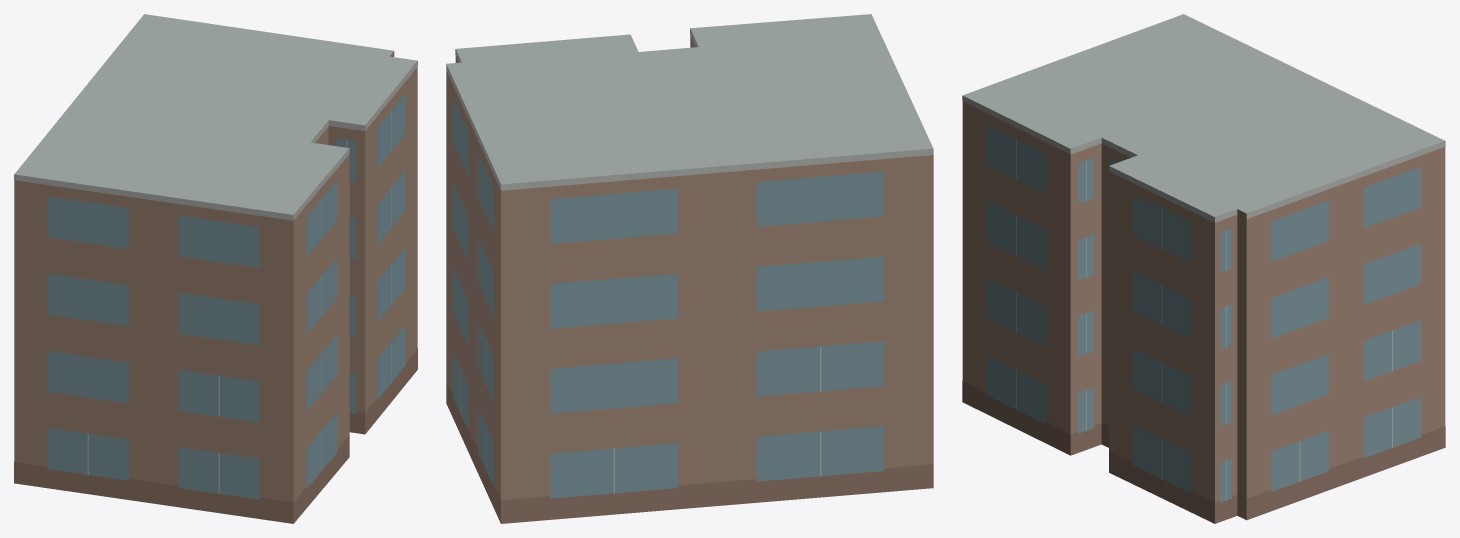
File: survey-upis-32745769.glb
3 renders of one model, left to right at view 1: azimuth 30°, elevation 25°; view 2: azimuth 150°, elevation 25°; view 3: azimuth 270°, elevation 25°, orthographic. The views are drawn at different scales.
Parts seen in each view (by area): view 1: survey-upis-32745769.tmp; view 2: survey-upis-32745769.tmp; view 3: survey-upis-32745769.tmp.
Part boxes in pixels (x1=…): survey-upis-32745769.tmp: x1=14, y1=14, x2=417, y2=523; survey-upis-32745769.tmp: x1=446, y1=14, x2=933, y2=523; survey-upis-32745769.tmp: x1=962, y1=14, x2=1445, y2=523.
Size of the model in its own units: 18.55 by 13.05 by 18.63.
